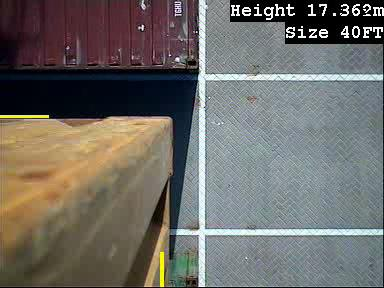groundmarker_2: (203, 52, 231, 92), (202, 199, 229, 239)
